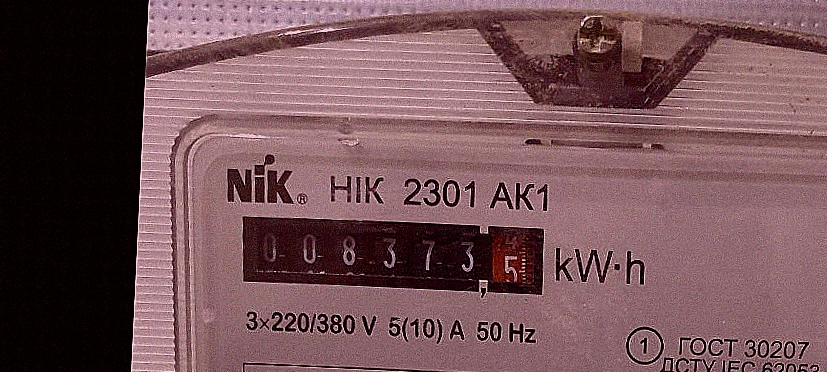0: (258, 229, 280, 265), (298, 229, 319, 266)
3: (455, 237, 479, 275), (377, 233, 400, 271)
4: (501, 231, 520, 252)
5: (501, 252, 521, 283)
7: (417, 234, 437, 274)
8: (337, 231, 360, 268)
screen: (233, 206, 554, 308)
